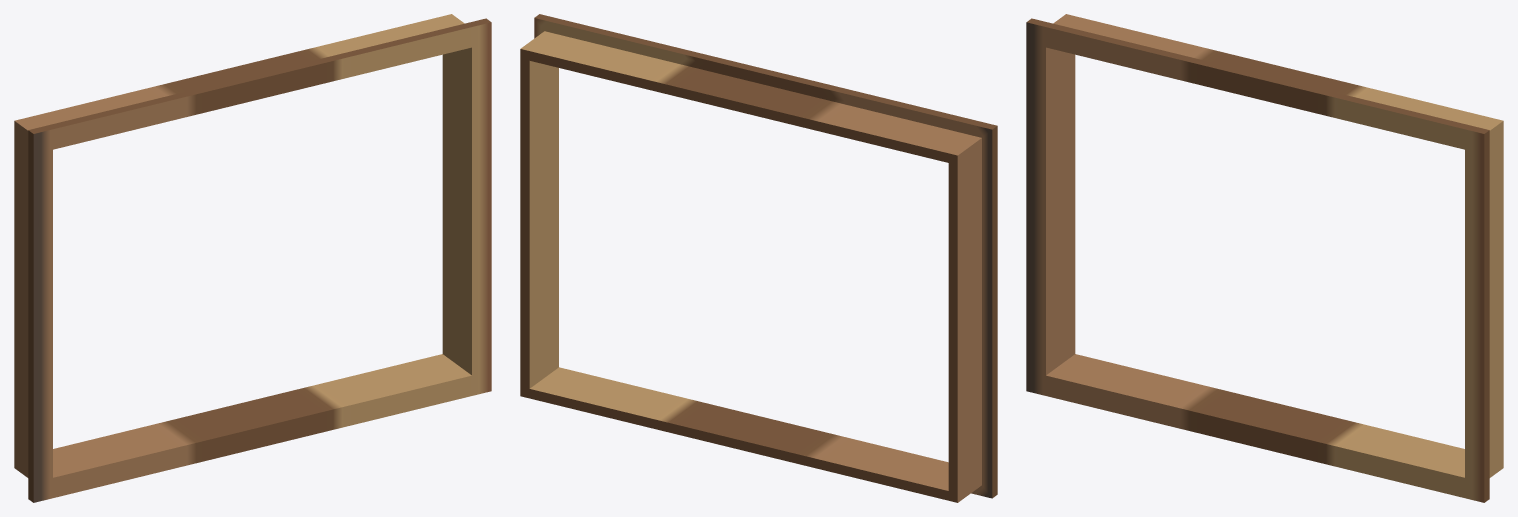
Rendered from DBK_WinWide_Trim_A_Full.fbx.
3 renders of one model, left to right at view 1: azimuth 30°, elevation 25°; view 2: azimuth 150°, elevation 25°; view 3: azimuth 330°, elevation 25°, orthographic.
Visible parts, largest first — view 1: DBK_WinWide_Trim_A_Full; view 2: DBK_WinWide_Trim_A_Full; view 3: DBK_WinWide_Trim_A_Full.
Part boxes in pixels (x1,y1,x2,y2): DBK_WinWide_Trim_A_Full: (14,14,491,502); DBK_WinWide_Trim_A_Full: (520,14,997,502); DBK_WinWide_Trim_A_Full: (1026,14,1503,502).
Bounding box in the file's own units: 174 × 134 × 19.37.
